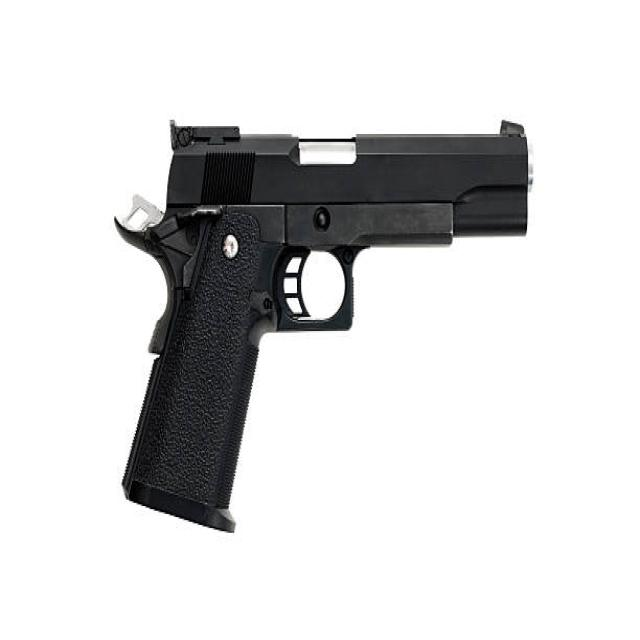pistol: (100, 110, 546, 534)
